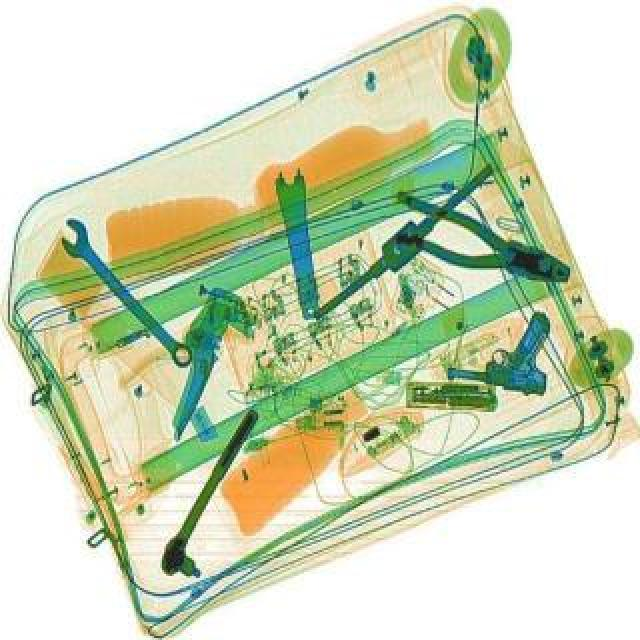gun: (446, 298, 564, 398)
scissors: (52, 214, 204, 372)
wrench: (378, 186, 578, 300)
